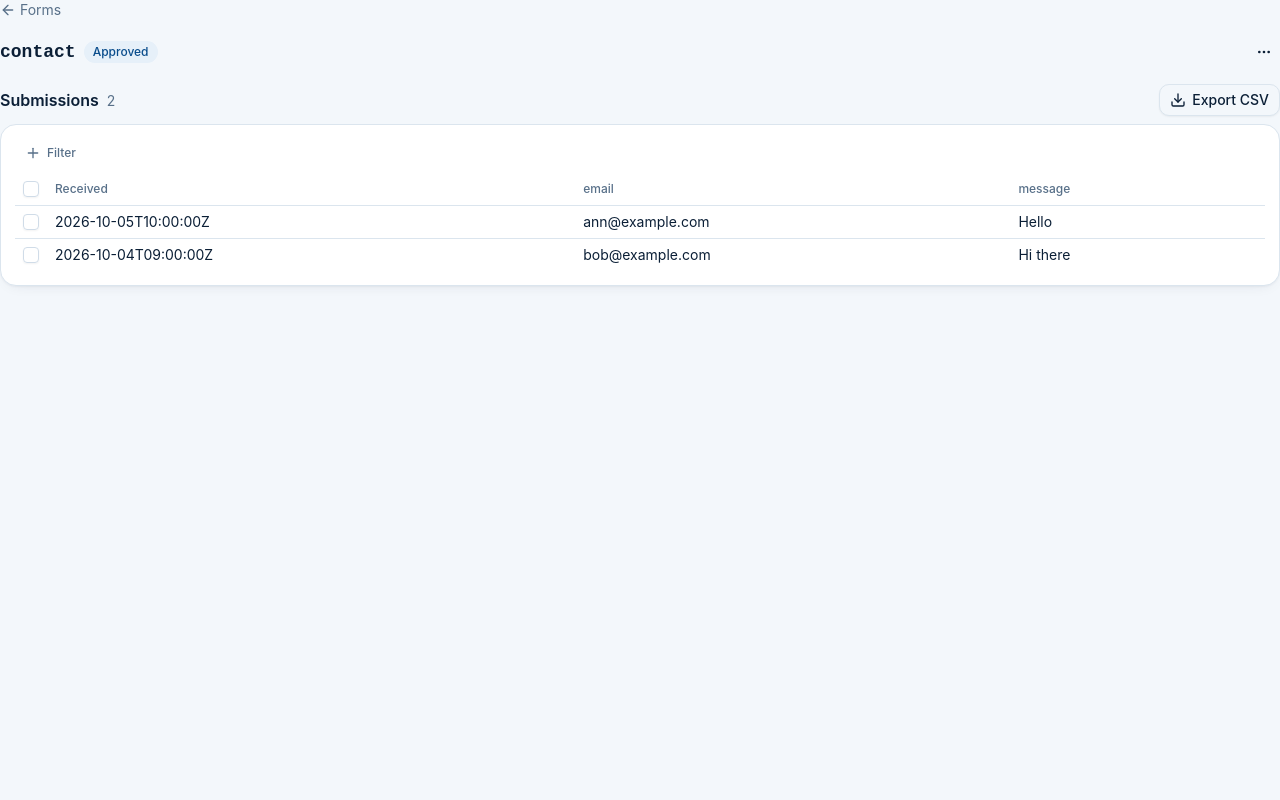
Test: FormPage › drops unsaved edits on Cancel
Click the button named "Actions for contact" at (1264, 52), box x1=1248 y1=36 x2=1279 y2=68
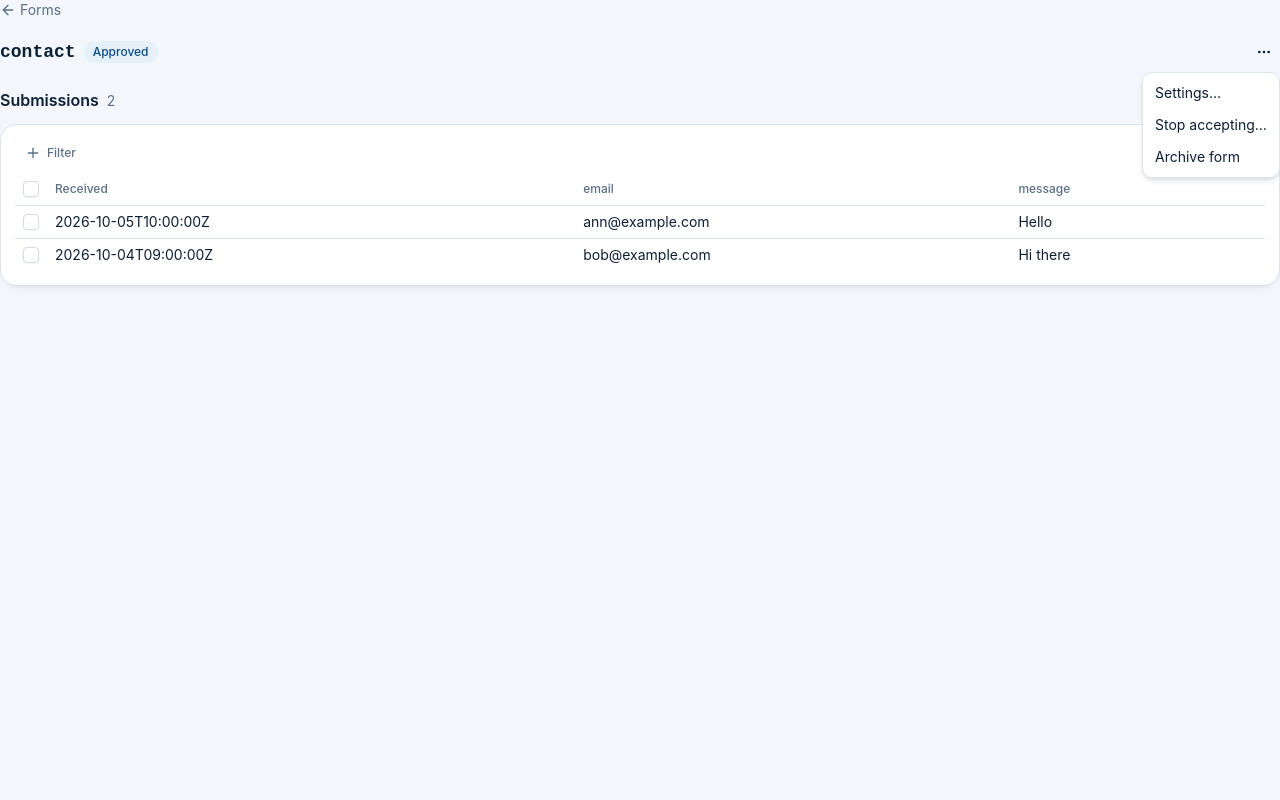
Click the menu item "Settings…" at (1188, 92), box x1=1155 y1=84 x2=1221 y2=101
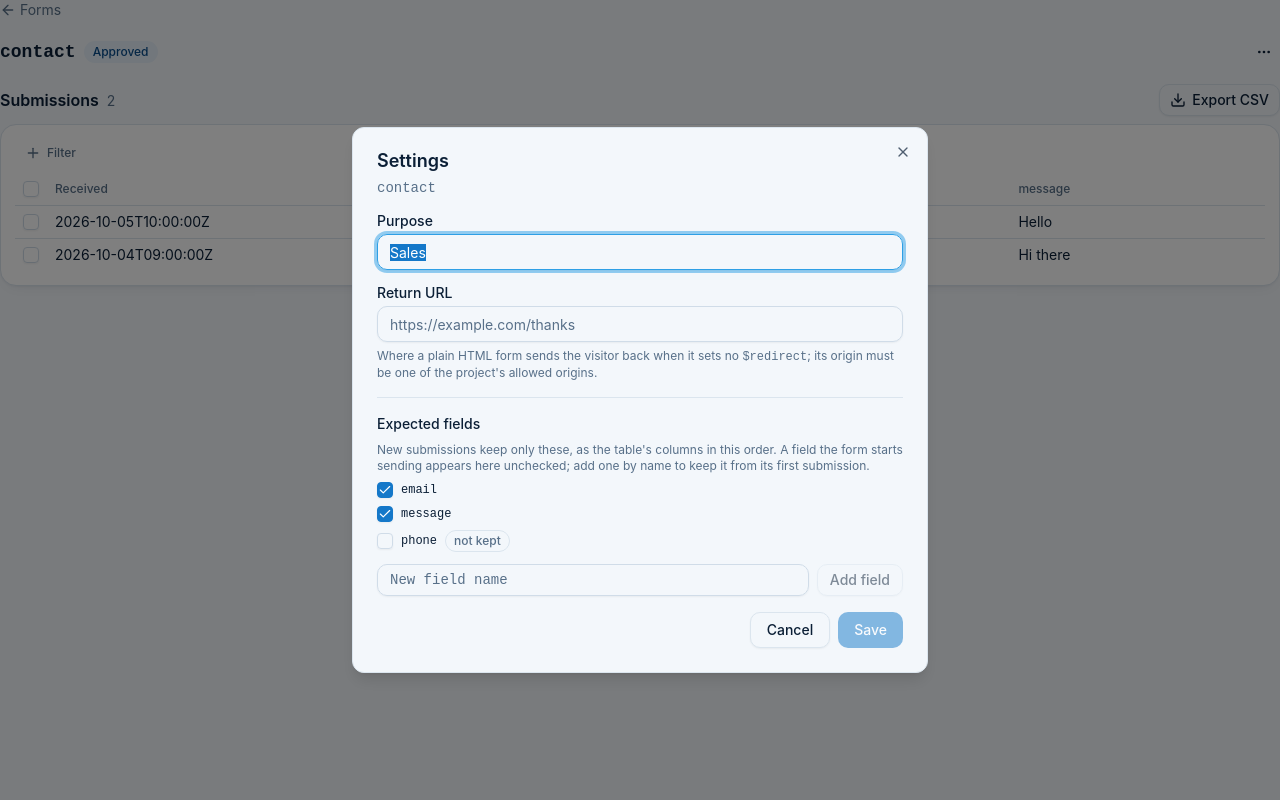
Clear the field labelled "Purpose" at (640, 252), box x1=377 y1=234 x2=903 y2=270
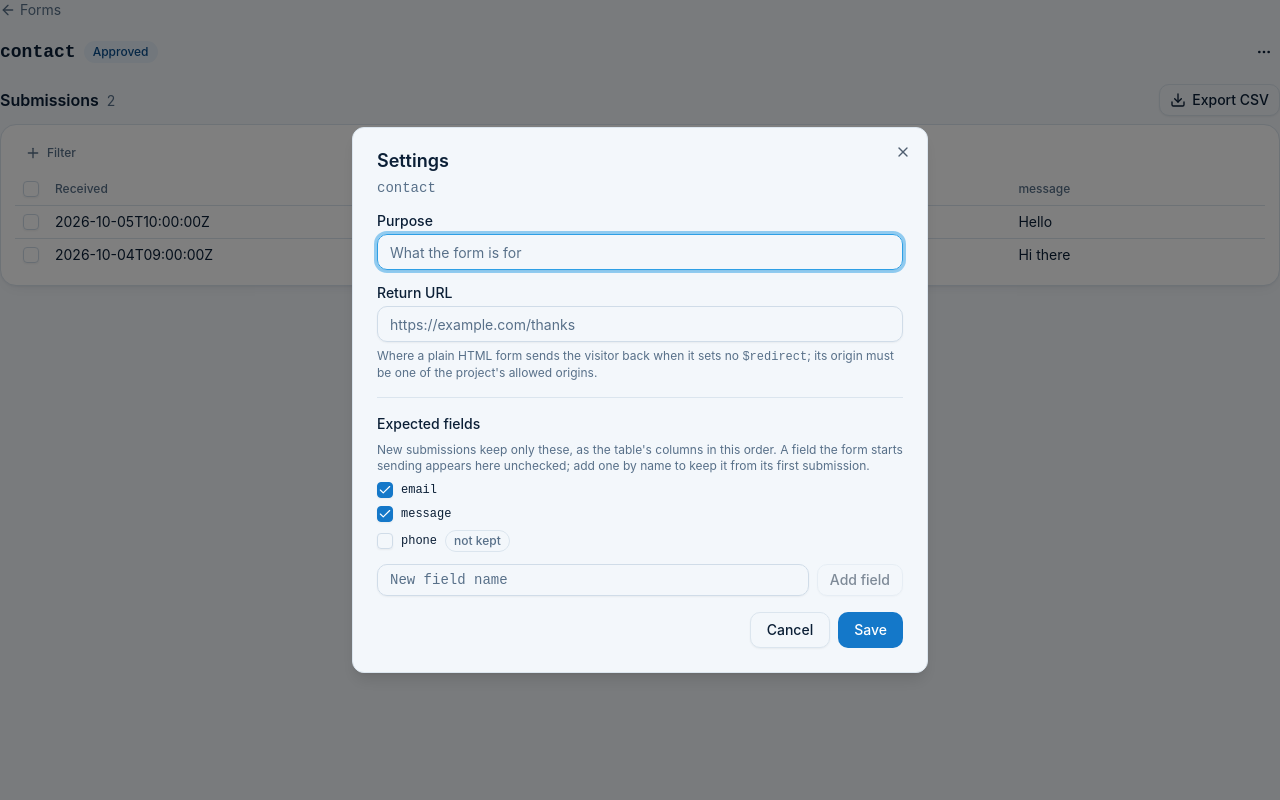
Click the button "Cancel" at (790, 630), box x1=750 y1=612 x2=830 y2=648
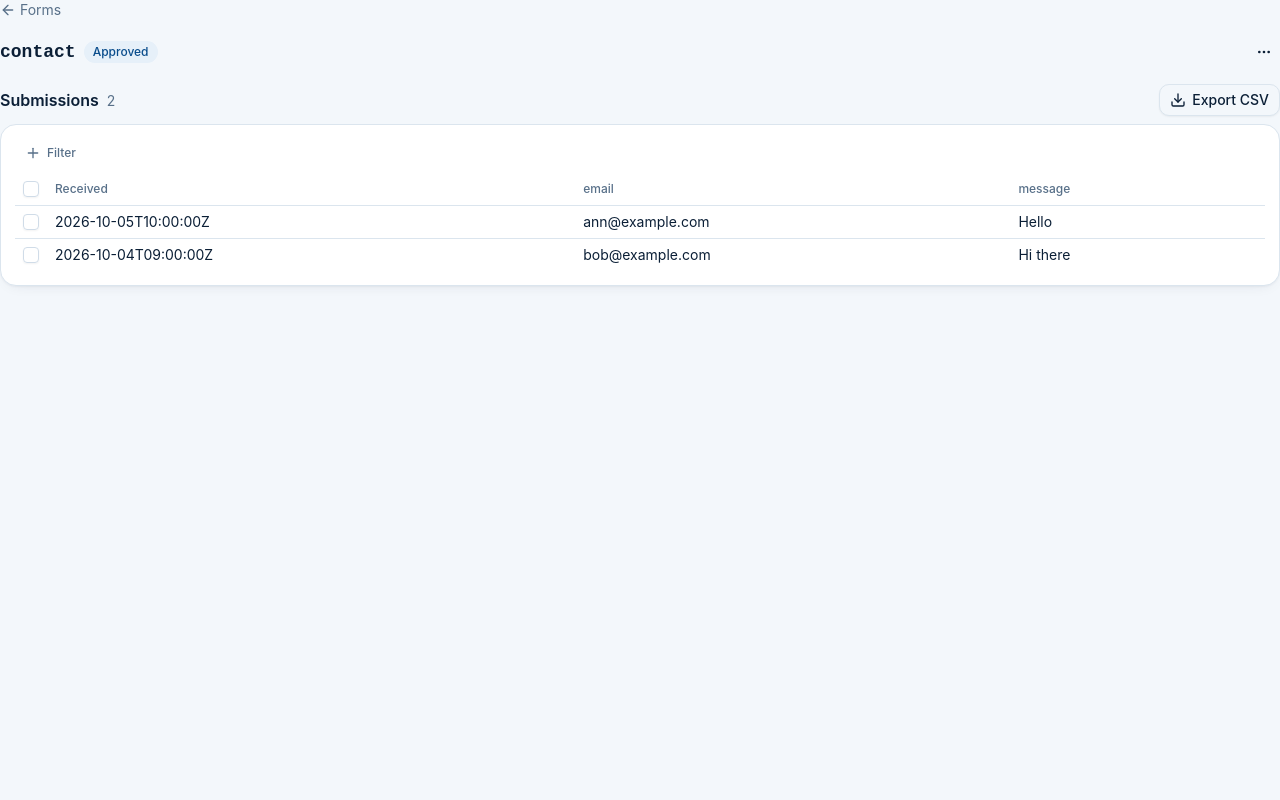
Expected: the heading "Settings" is gone
Click the button named "Actions for contact" at (1264, 52), box x1=1248 y1=36 x2=1279 y2=68
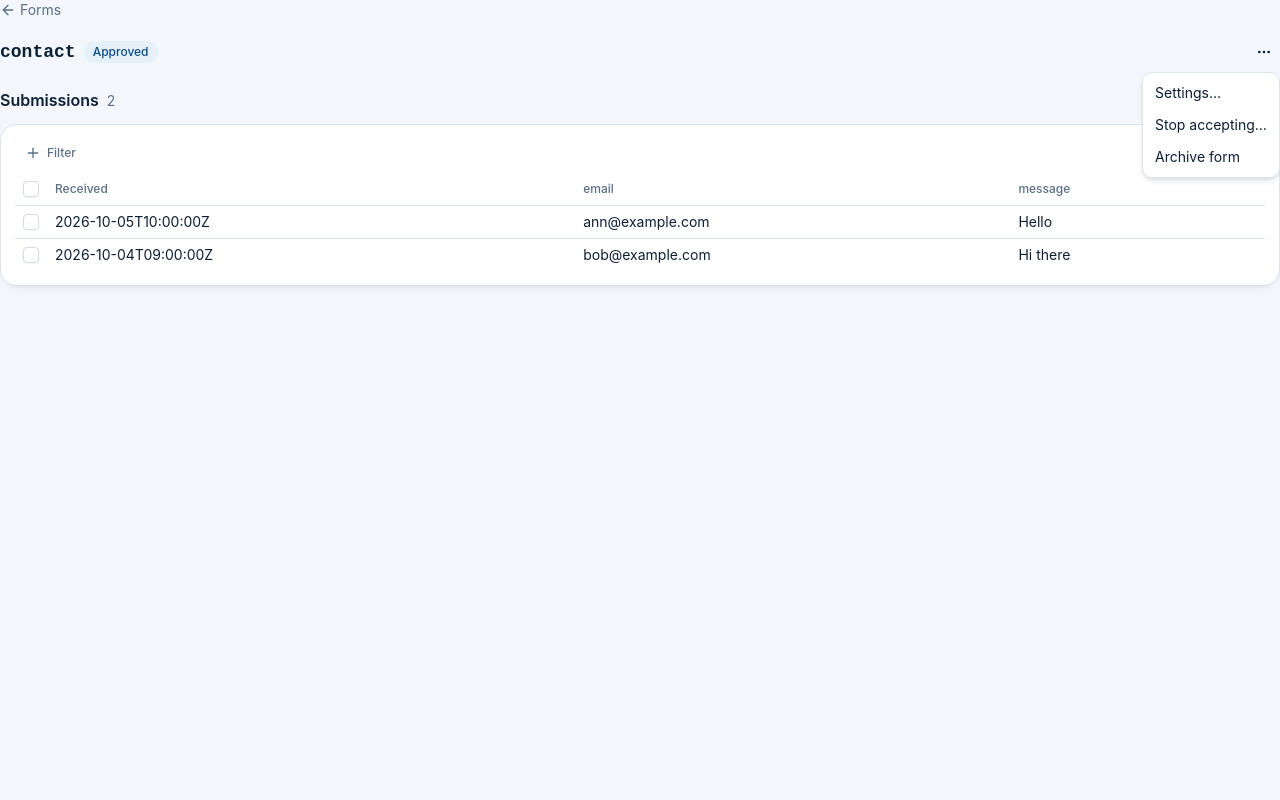
Click the menu item "Settings…" at (1188, 92), box x1=1155 y1=84 x2=1221 y2=101
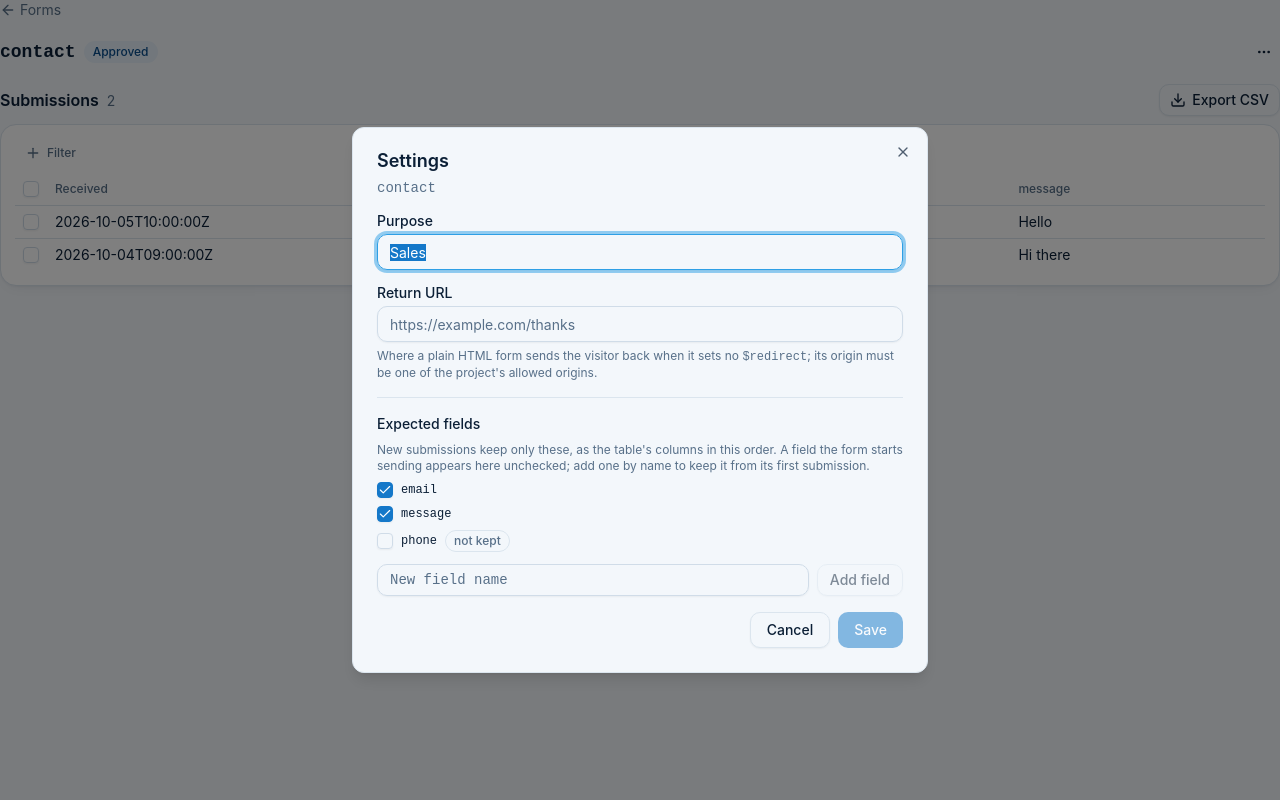
Expected: the field labelled "Purpose" holds "Sales", x1=377 y1=234 x2=903 y2=270
